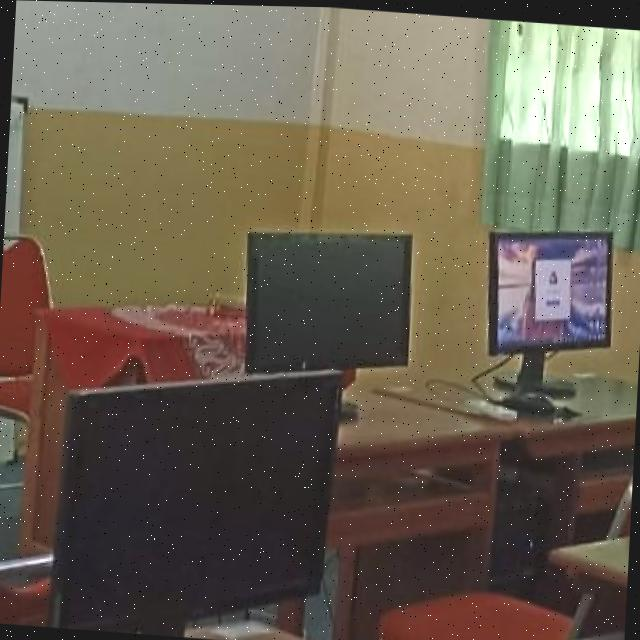offscreen: (52, 370, 340, 636), (246, 232, 411, 370)
onscreen: (490, 231, 610, 351)
